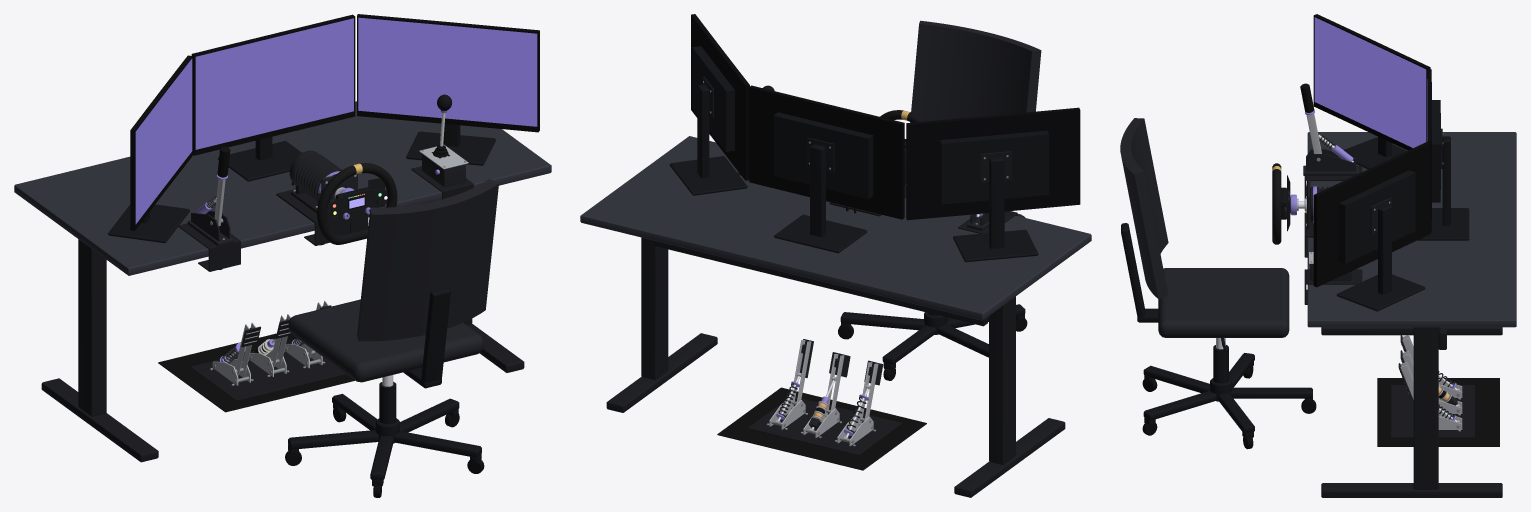
Rendered from desk.glb.
3 renders of one model, left to right at view 1: azimuth 30°, elevation 25°; view 2: azimuth 150°, elevation 25°; view 3: azimuth 270°, elevation 25°, orthographic. The views are drawn at different scales.
Parts seen in each view (by area): view 1: slot_frame, monitors_side, slot_monitors, slot_pedals, slot_rim, slot_wheelbase, slot_handbrake, slot_shifter; view 2: slot_frame, monitors_side, slot_monitors, slot_pedals; view 3: slot_frame, monitors_side, slot_pedals, slot_monitors, slot_handbrake, slot_rim, slot_wheelbase.
Boxes of the visible parts, x1,y1,x2,y2 form: slot_frame: (14, 101, 551, 497); monitors_side: (108, 14, 539, 243); slot_monitors: (191, 14, 355, 181); slot_pedals: (190, 300, 345, 400); slot_rim: (317, 163, 397, 244); slot_wheelbase: (289, 150, 357, 213); slot_handbrake: (187, 146, 233, 246); slot_shifter: (419, 94, 468, 187); slot_frame: (580, 20, 1091, 497); monitors_side: (669, 14, 1080, 262); slot_monitors: (749, 85, 904, 253); slot_pedals: (748, 339, 902, 455); slot_frame: (1120, 118, 1516, 497); monitors_side: (1313, 14, 1430, 311); slot_pedals: (1391, 335, 1474, 437); slot_monitors: (1417, 69, 1469, 240); slot_handbrake: (1300, 83, 1358, 175); slot_rim: (1272, 163, 1298, 244); slot_wheelbase: (1298, 180, 1328, 229).
Size of the model in its own units: 1.6 by 1.22 by 1.42.
